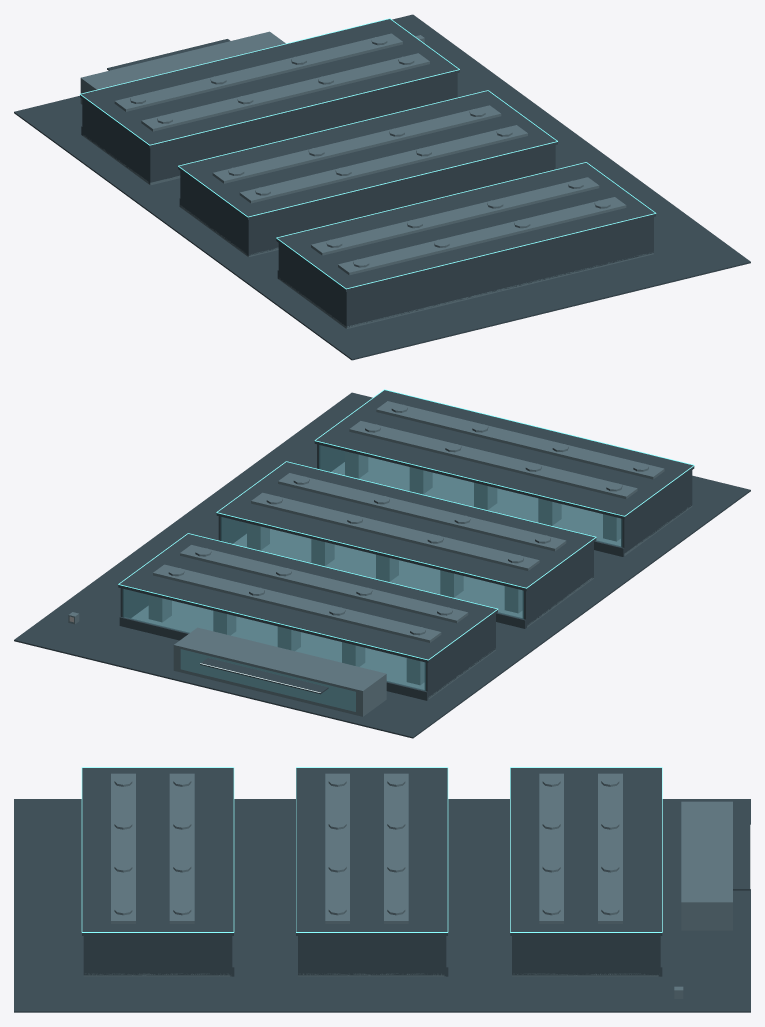
File: data_center_campus.lod1.glb
3 renders of one model, top to bottom at view 1: azimuth 30°, elevation 25°; view 2: azimuth 150°, elevation 25°; view 3: azimuth 270°, elevation 25°, orthographic. The views are drawn at different scales.
Visible parts, largest first — view 1: data_center_campus_graphite.001, data_center_campus_graphite_light.001, data_center_campus_edge.001; view 2: data_center_campus_graphite.001, data_center_campus_graphite_light.001, data_center_campus_glass.001, data_center_campus_edge.001; view 3: data_center_campus_graphite.001, data_center_campus_graphite_light.001, data_center_campus_edge.001.
Part boxes in pixels (x1,y1,x2,y2): data_center_campus_graphite.001: [14, 14, 750, 360]; data_center_campus_graphite_light.001: [80, 31, 653, 328]; data_center_campus_edge.001: [79, 18, 656, 289]; data_center_campus_graphite.001: [14, 390, 750, 738]; data_center_campus_graphite_light.001: [68, 401, 692, 716]; data_center_campus_glass.001: [123, 445, 621, 711]; data_center_campus_edge.001: [118, 389, 694, 660]; data_center_campus_graphite.001: [14, 768, 750, 1012]; data_center_campus_graphite_light.001: [83, 773, 732, 998]; data_center_campus_edge.001: [81, 767, 662, 932].
Size of the model in its own units: 146 by 16.33 by 213.
